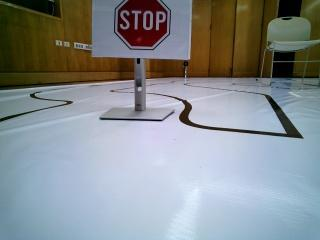stop: (102, 0, 184, 55)
